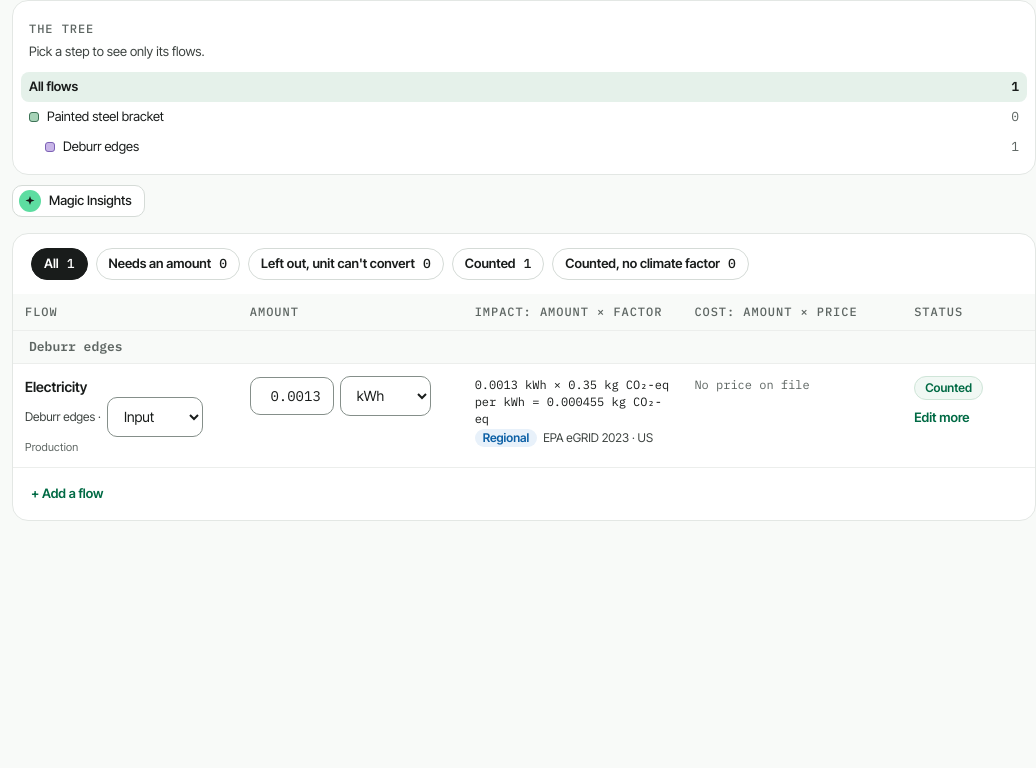
Test: the amount box › Discard puts the stored amount back and sends nothing
The image size is (1036, 768).
Replace the text in the field named "Electricity, amount in kWh" with "9" at x=292, y=396, box [250,376,334,414]
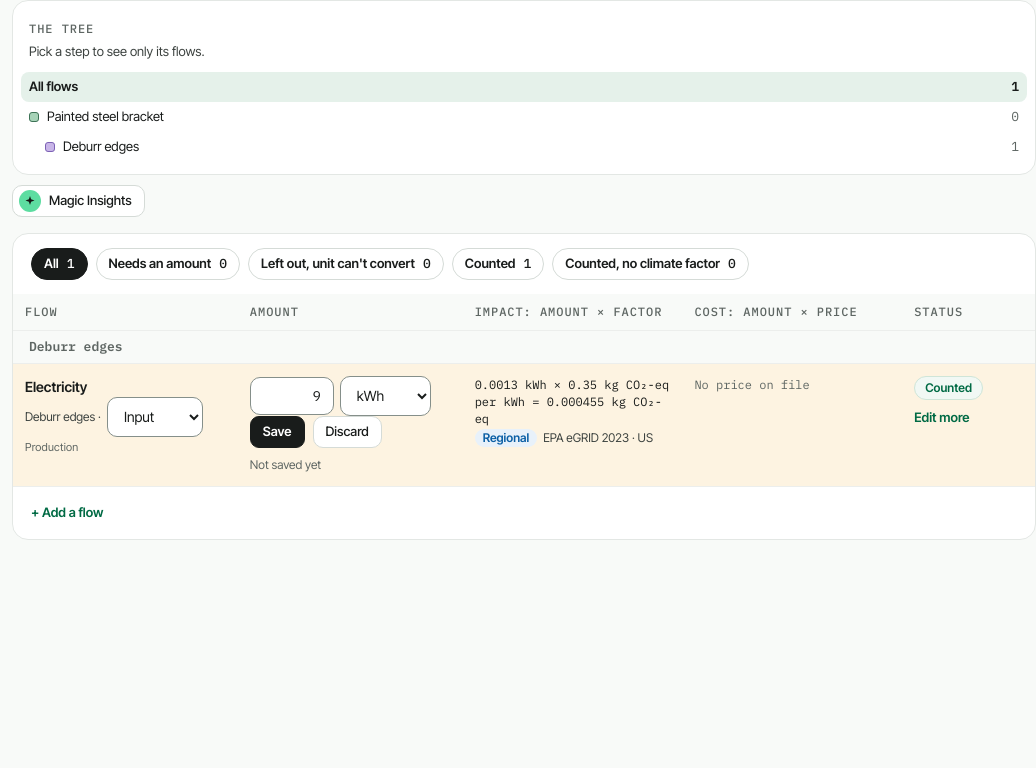
Click the button with aria-label "Discard the changes to Electricity on Deburr edges".
click(347, 432)  # box [312,416,382,448]
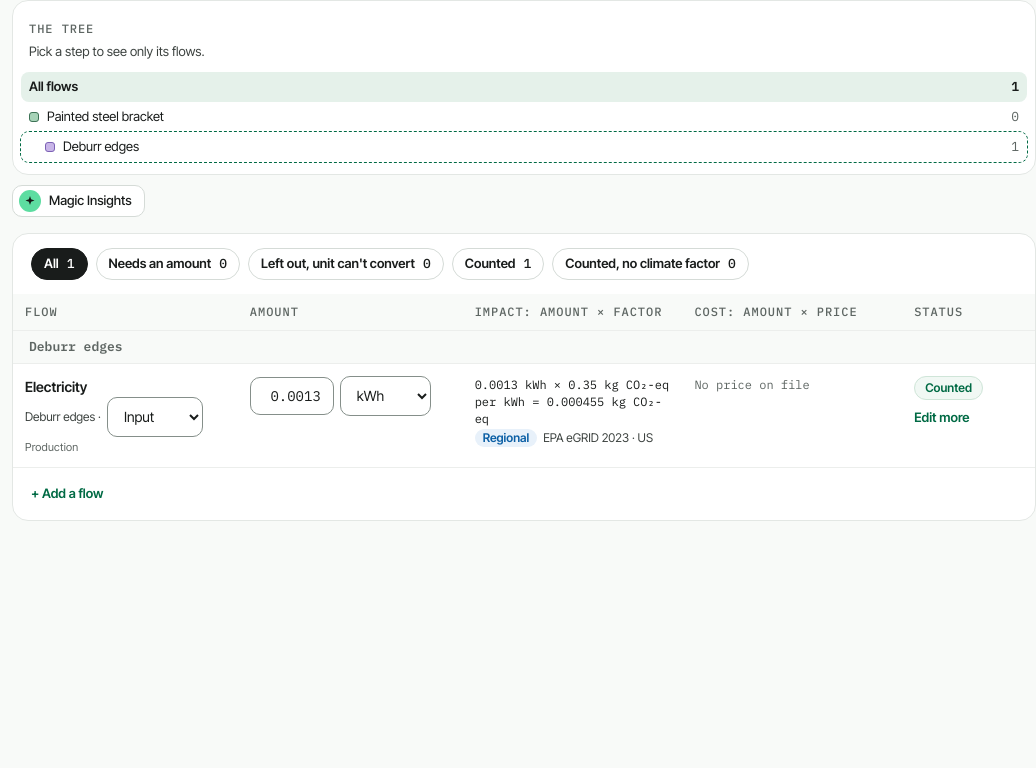
Expected: the field named "Electricity, amount in kWh" holds "0.0013", [250,376,334,414]
